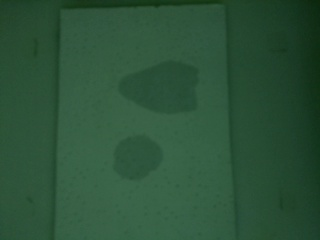Water_detected: (129, 71, 189, 110), (127, 148, 163, 174)
